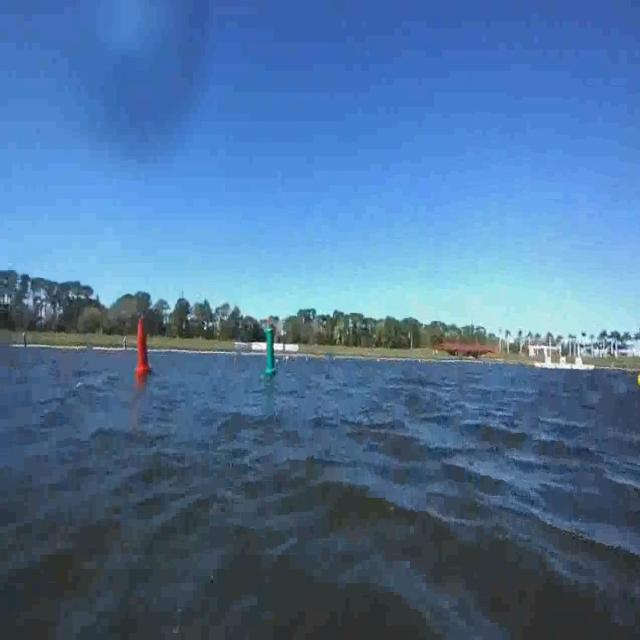green-column-buoy: (265, 326, 279, 376)
red-column-buoy: (134, 318, 152, 376)
